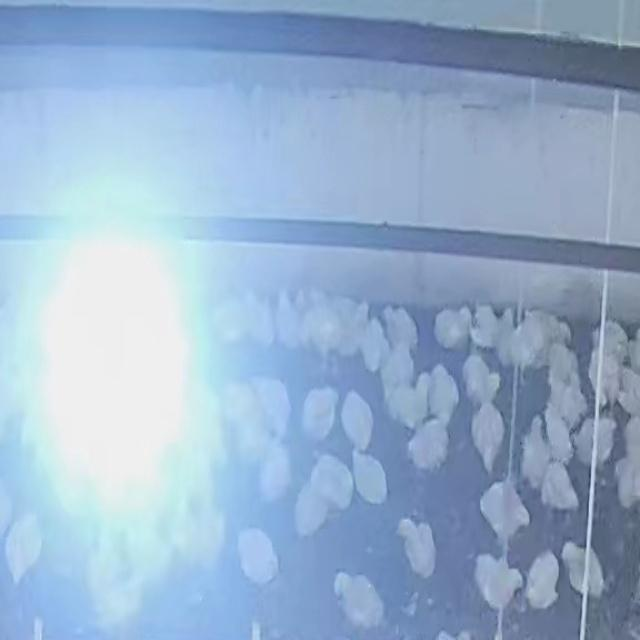chicken: (478, 479, 530, 547), (472, 551, 524, 612), (334, 572, 384, 631), (4, 513, 42, 584), (236, 524, 283, 581), (310, 452, 354, 512), (397, 518, 441, 577), (469, 402, 506, 472), (563, 540, 606, 600), (467, 302, 516, 354), (406, 418, 451, 473), (300, 386, 342, 442), (524, 550, 562, 610), (574, 415, 616, 469), (520, 418, 552, 486), (340, 388, 376, 448), (271, 288, 307, 348), (539, 461, 579, 512), (260, 376, 294, 434), (587, 350, 622, 406), (352, 450, 388, 504), (542, 408, 576, 464), (378, 343, 415, 393), (259, 446, 292, 502), (395, 370, 429, 422), (428, 365, 459, 422), (384, 306, 419, 356), (296, 483, 328, 537), (462, 354, 496, 404), (242, 292, 275, 343), (433, 307, 472, 350), (549, 342, 584, 386), (556, 384, 587, 431), (360, 316, 386, 362)
